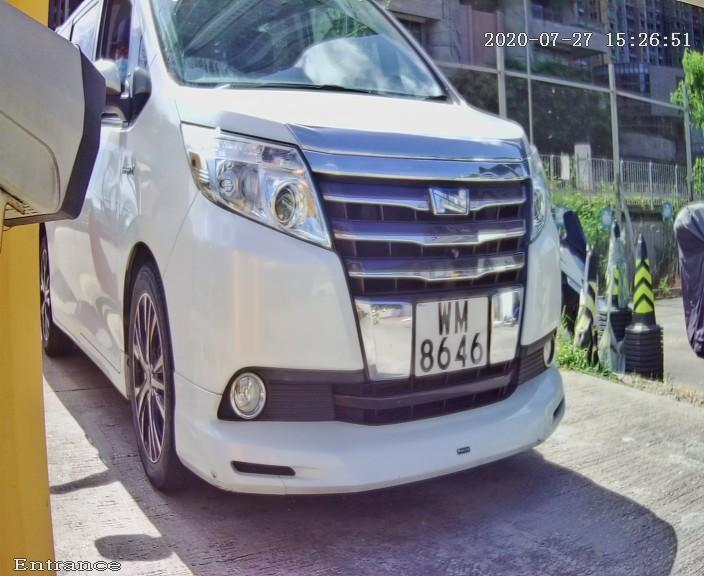privatecar: (45, 8, 604, 538)
